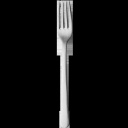fork: (46, 3, 101, 128)
